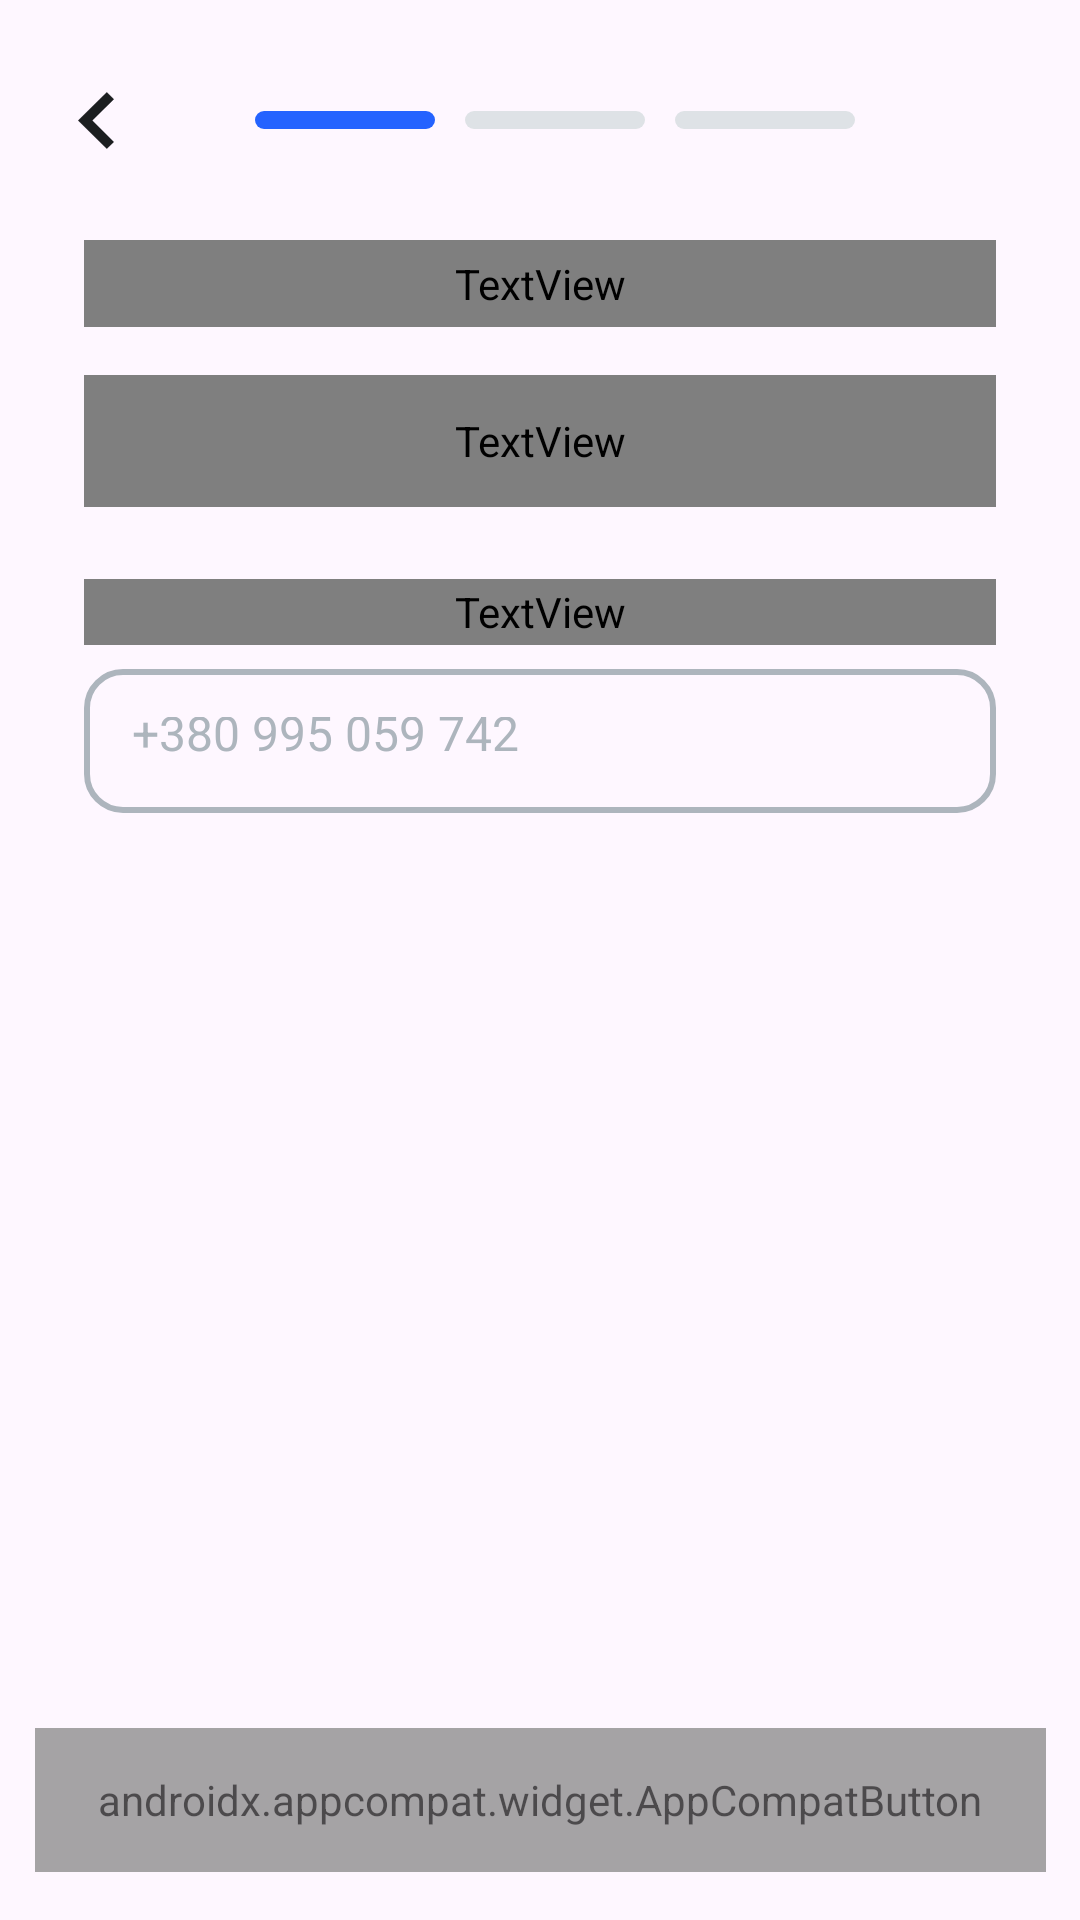

Locate icon controls on the screen. Image size 1080 × 1920, boxes as (x1, y1, x2, y2).
arrow back: (78, 92, 114, 149)
